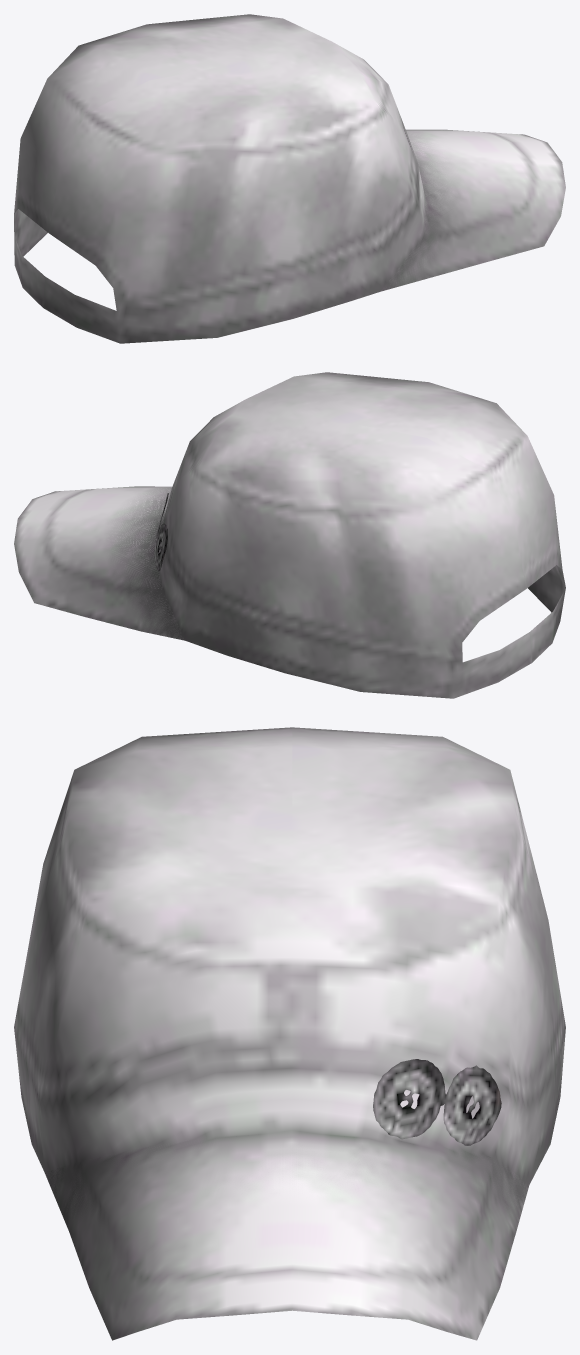
The model's file is hat_0450023.FBX.
The picture shows the model from 3 angles, top to bottom: view 1: azimuth 30°, elevation 25°; view 2: azimuth 150°, elevation 25°; view 3: azimuth 270°, elevation 25°; orthographic projection. The views are drawn at different scales.
Parts seen in each view (by area): view 1: hat_0450023; view 2: hat_0450023; view 3: hat_0450023.
Part boxes in pixels (x1,y1,x2,y2): hat_0450023: (14,14,565,343); hat_0450023: (14,372,565,698); hat_0450023: (14,727,565,1340).
Bounding box in the file's own units: 34.23 × 13.42 × 20.37.
